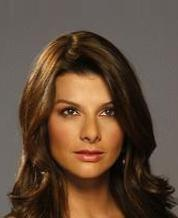face: (56, 99, 119, 160)
